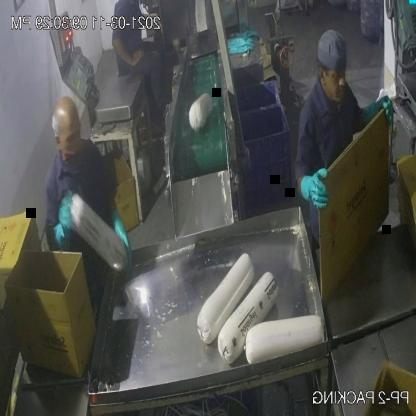glove: (297, 157, 334, 218)
no_glove: (109, 33, 143, 72)
